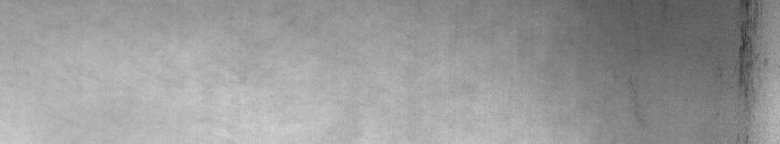ka: (718, 4, 768, 110)
